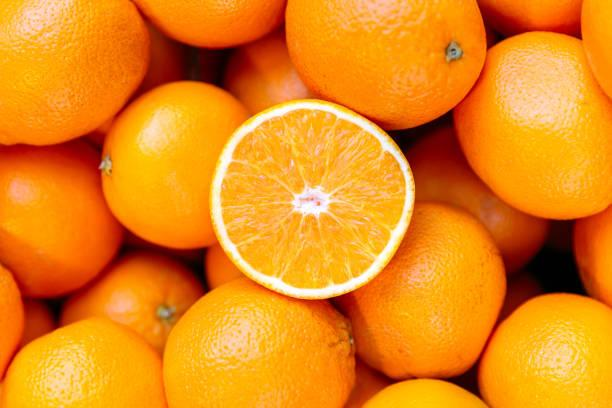orange: (207, 96, 429, 301), (435, 17, 612, 213), (271, 0, 483, 153), (348, 211, 525, 383), (153, 273, 366, 408), (1, 0, 161, 159), (97, 83, 261, 237), (470, 288, 612, 408), (3, 307, 161, 408), (52, 241, 208, 342), (0, 159, 129, 271)
